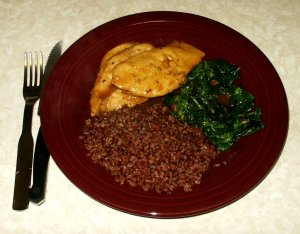Nasi Merah: (45, 93, 221, 190)
